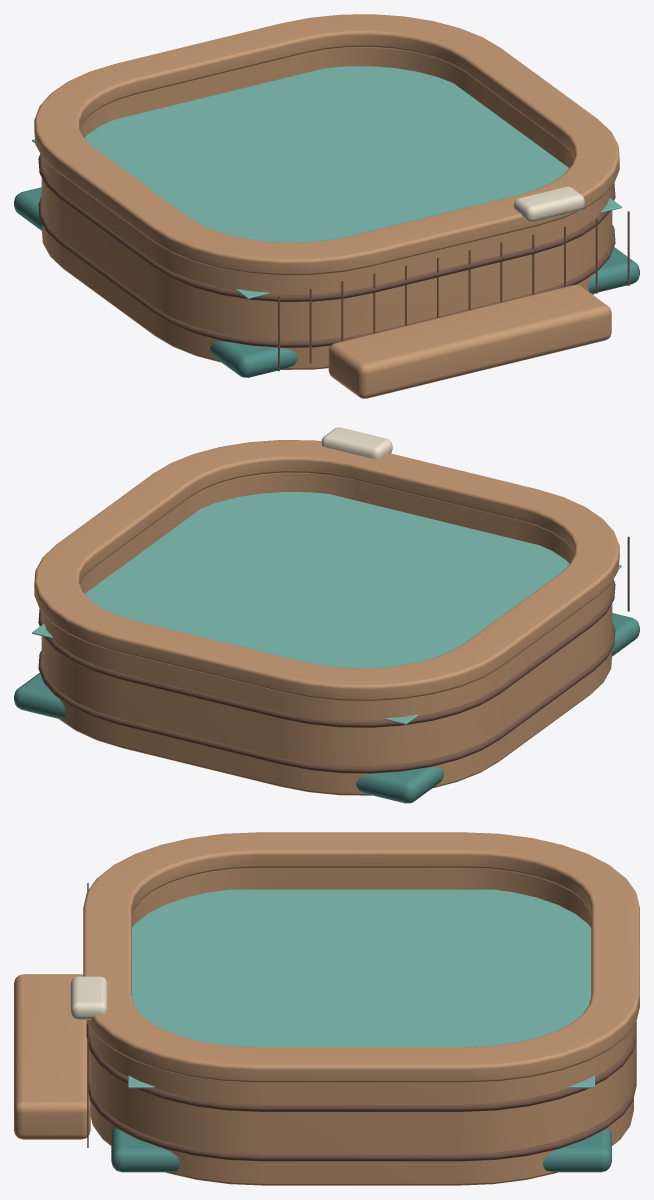
Rendered from hot_tub.glb.
3 renders of one model, top to bottom at view 1: azimuth 30°, elevation 25°; view 2: azimuth 150°, elevation 25°; view 3: azimuth 270°, elevation 25°, orthographic. The views are drawn at different scales.
Parts seen in each view (by area): view 1: Body_cedar, Water_water, Body_darkwood, Body_teal, Body_linen; view 2: Body_cedar, Water_water, Body_darkwood, Body_teal, Body_linen; view 3: Body_cedar, Water_water, Body_darkwood, Body_teal, Body_linen.
Part boxes in pixels (x1=…): Body_cedar: x1=34, y1=14, x2=619, y2=398; Water_water: x1=32, y1=66, x2=621, y2=298; Body_darkwood: x1=38, y1=154, x2=629, y2=371; Body_teal: x1=14, y1=187, x2=639, y2=377; Body_linen: x1=513, y1=186, x2=584, y2=222; Body_cedar: x1=34, y1=440, x2=619, y2=795; Water_water: x1=32, y1=492, x2=621, y2=724; Body_darkwood: x1=38, y1=536, x2=629, y2=773; Body_teal: x1=14, y1=613, x2=639, y2=803; Body_linen: x1=321, y1=427, x2=392, y2=458; Body_cedar: x1=14, y1=832, x2=639, y2=1185; Water_water: x1=128, y1=889, x2=594, y2=1088; Body_darkwood: x1=86, y1=883, x2=636, y2=1161; Body_teal: x1=111, y1=1128, x2=611, y2=1172; Body_linen: x1=70, y1=976, x2=107, y2=1019.
Bounding box in the file's own units: 3.78 × 1.03 × 4.25.
